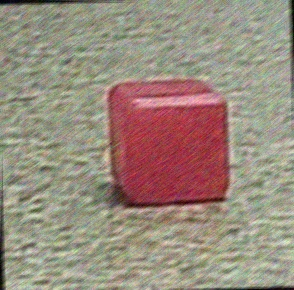red_cube: (94, 70, 248, 209)
